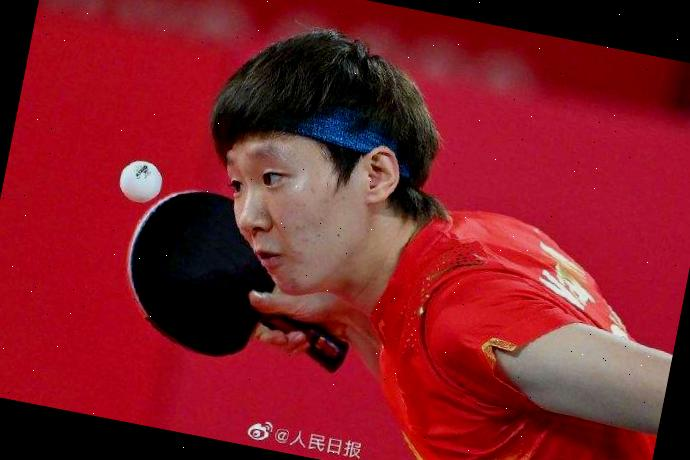ball: (109, 152, 170, 208)
